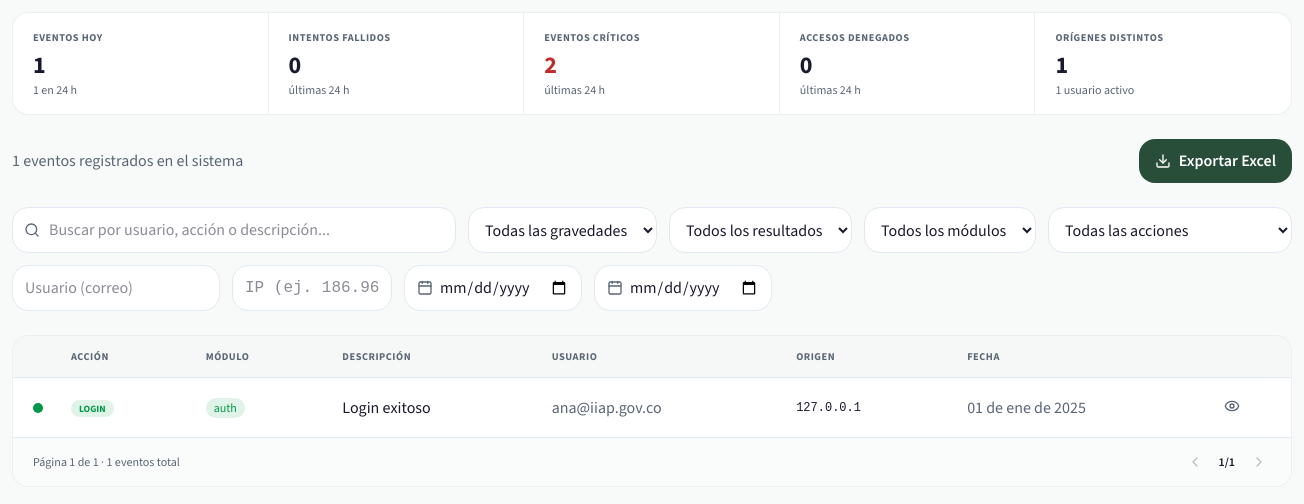
Test: AuditoriaTab — resumen de 24 horas › pulsar «Eventos críticos» filtra la tabla por gravedad crítica
Click the button "Eventos críticos 2 últimas 24 h": (652, 64) 524,13 -> 780,114
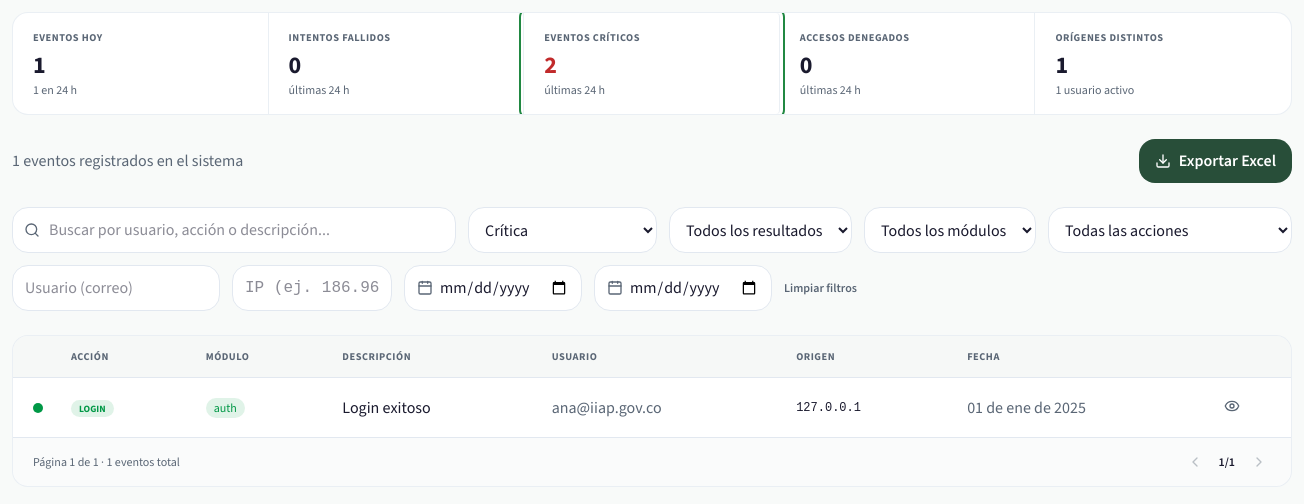
Expected: the dropdown named "Gravedad" shows "Crítica", 468,207 -> 657,253
